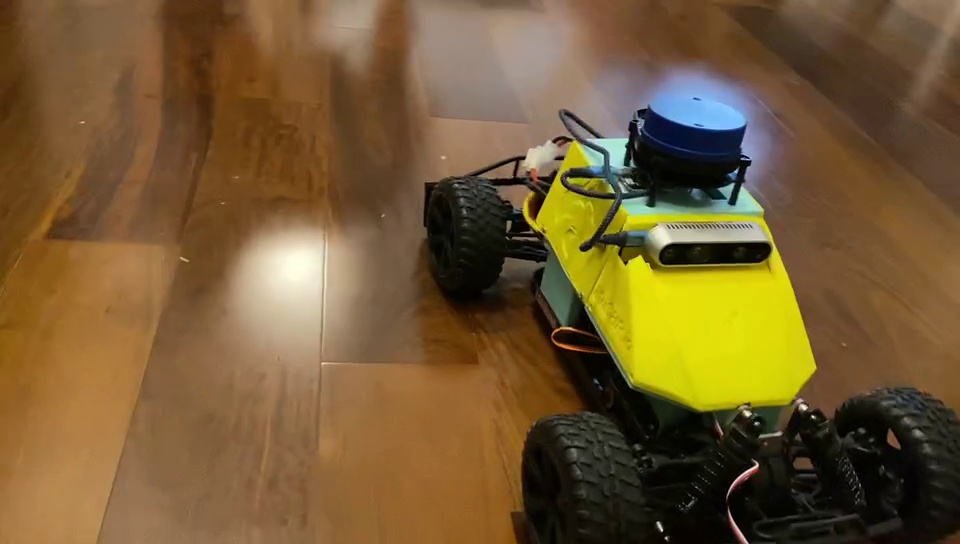mushr_car: (419, 77, 959, 544)
